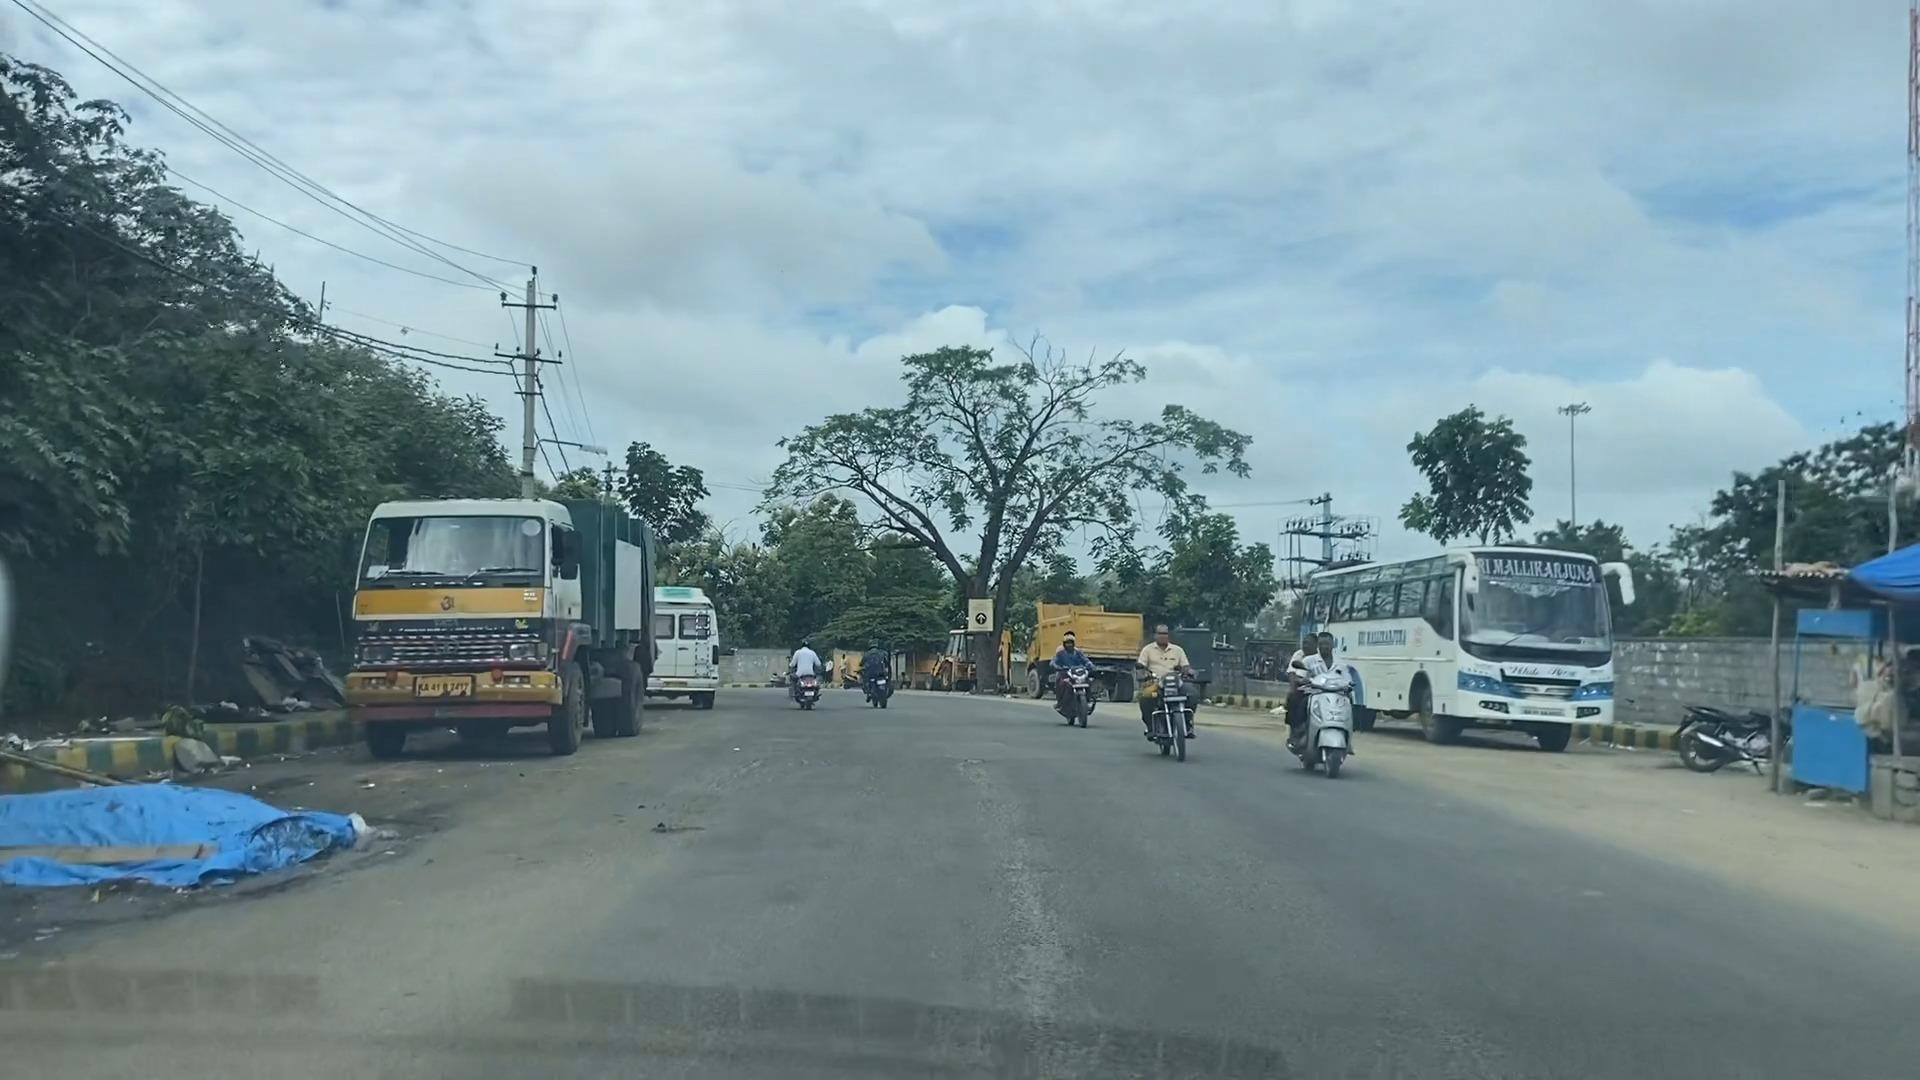HMV: (342, 489, 736, 767), (1275, 546, 1648, 742), (1007, 580, 1149, 698)
LMV: (1138, 611, 1221, 774), (1282, 611, 1358, 787), (1676, 678, 1799, 777), (849, 587, 916, 752), (771, 603, 844, 737), (1039, 620, 1110, 737)
RoadDamages: (911, 856, 1163, 1069)
